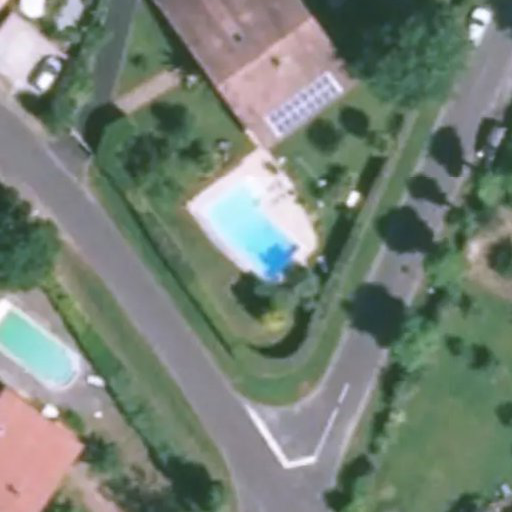pool: (193, 222, 318, 262)
